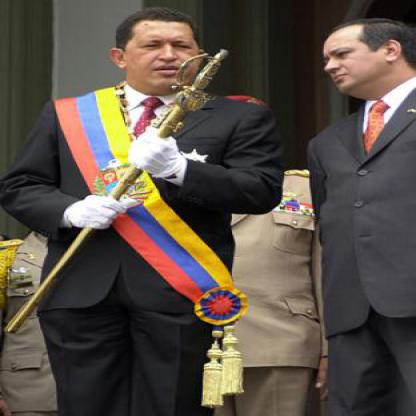face: (123, 10, 203, 90), (310, 26, 388, 95)
